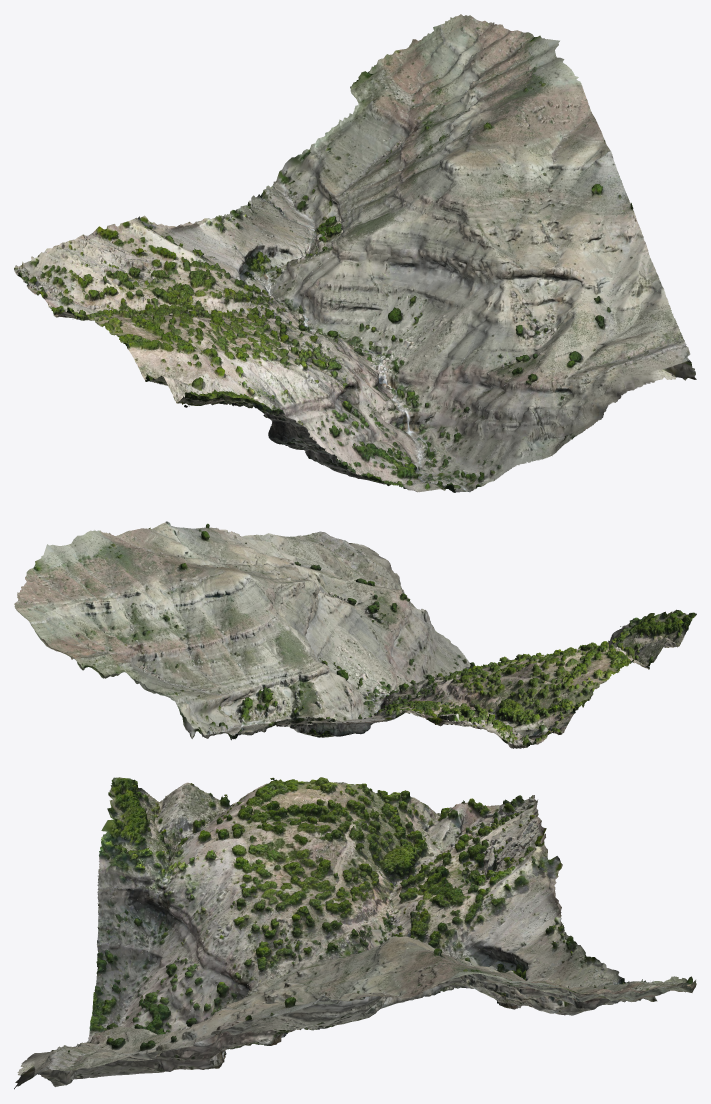
The picture shows the model from 3 angles, top to bottom: view 1: azimuth 30°, elevation 25°; view 2: azimuth 150°, elevation 25°; view 3: azimuth 270°, elevation 25°; orthographic projection. The views are drawn at different scales.
Visible parts, largest first — view 1: Sürek; view 2: Sürek; view 3: Sürek.
Boxes of the visible parts, x1,y1,x2,y2 form: Sürek: [14, 14, 696, 492]; Sürek: [14, 521, 696, 748]; Sürek: [14, 777, 696, 1089].
Size of the model in its own units: 529 by 210 by 512.
4 materials, 4 textured.
